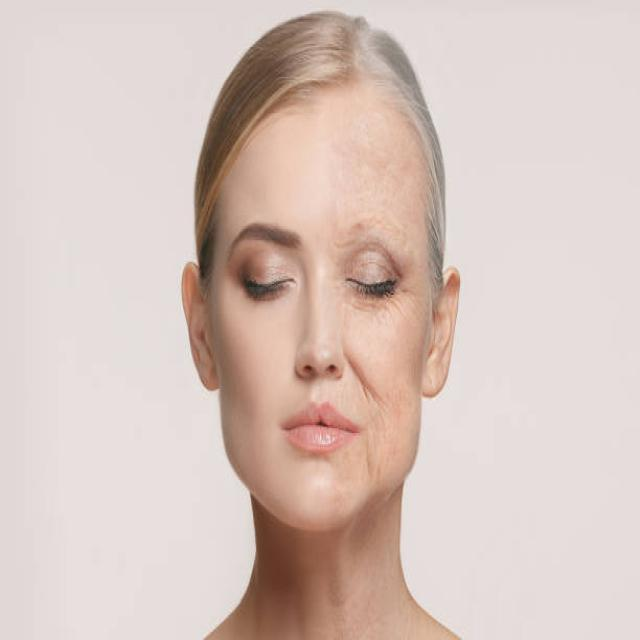dry: (353, 296, 435, 468), (350, 111, 422, 229)
